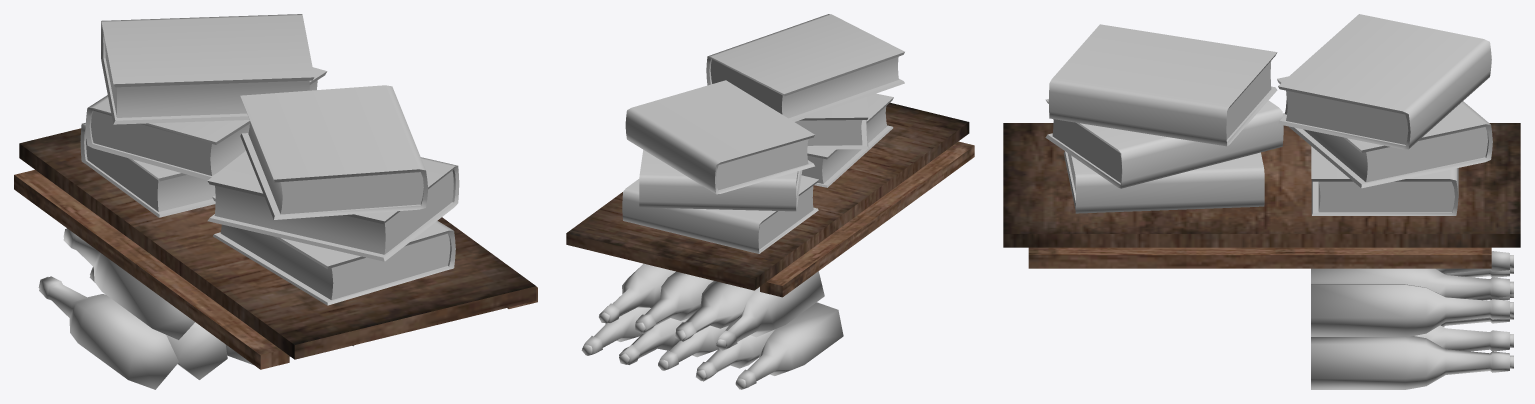
Rendered from desk_content_pull_stuck.DAE.
3 renders of one model, left to right at view 1: azimuth 30°, elevation 25°; view 2: azimuth 150°, elevation 25°; view 3: azimuth 270°, elevation 25°, orthographic. The views are drawn at different scales.
Visible parts, largest first — view 1: polySurface003, polySurface004, Box002, wine_stack003, Object003, wine_stack004; view 2: polySurface004, polySurface003, Box002, wine_stack003, wine_stack005, Object003, wine_stack004; view 3: polySurface003, polySurface004, Box002, wine_stack005, Object003, wine_stack004.
Part boxes in pixels (box(x1,y1,x2,y2)): polySurface003: box(207, 85, 459, 305); polySurface004: box(80, 14, 327, 217); Box002: box(19, 128, 536, 359); wine_stack003: box(38, 228, 194, 389); Object003: box(14, 170, 537, 369); wine_stack004: box(89, 267, 253, 379); polySurface004: box(622, 80, 818, 253); polySurface003: box(706, 14, 904, 187); Box002: box(566, 102, 969, 290); wine_stack003: box(716, 271, 843, 389); wine_stack005: box(581, 263, 713, 364); Object003: box(760, 141, 974, 297); wine_stack004: box(658, 281, 774, 381); polySurface003: box(1045, 24, 1283, 213); polySurface004: box(1277, 14, 1492, 215); Box002: box(1003, 123, 1520, 247); wine_stack005: box(1311, 268, 1513, 389); Object003: box(1028, 247, 1491, 268); wine_stack004: box(1436, 251, 1513, 326).
Bounding box in the file's own units: 0.5477 × 0.5582 × 0.9428.
